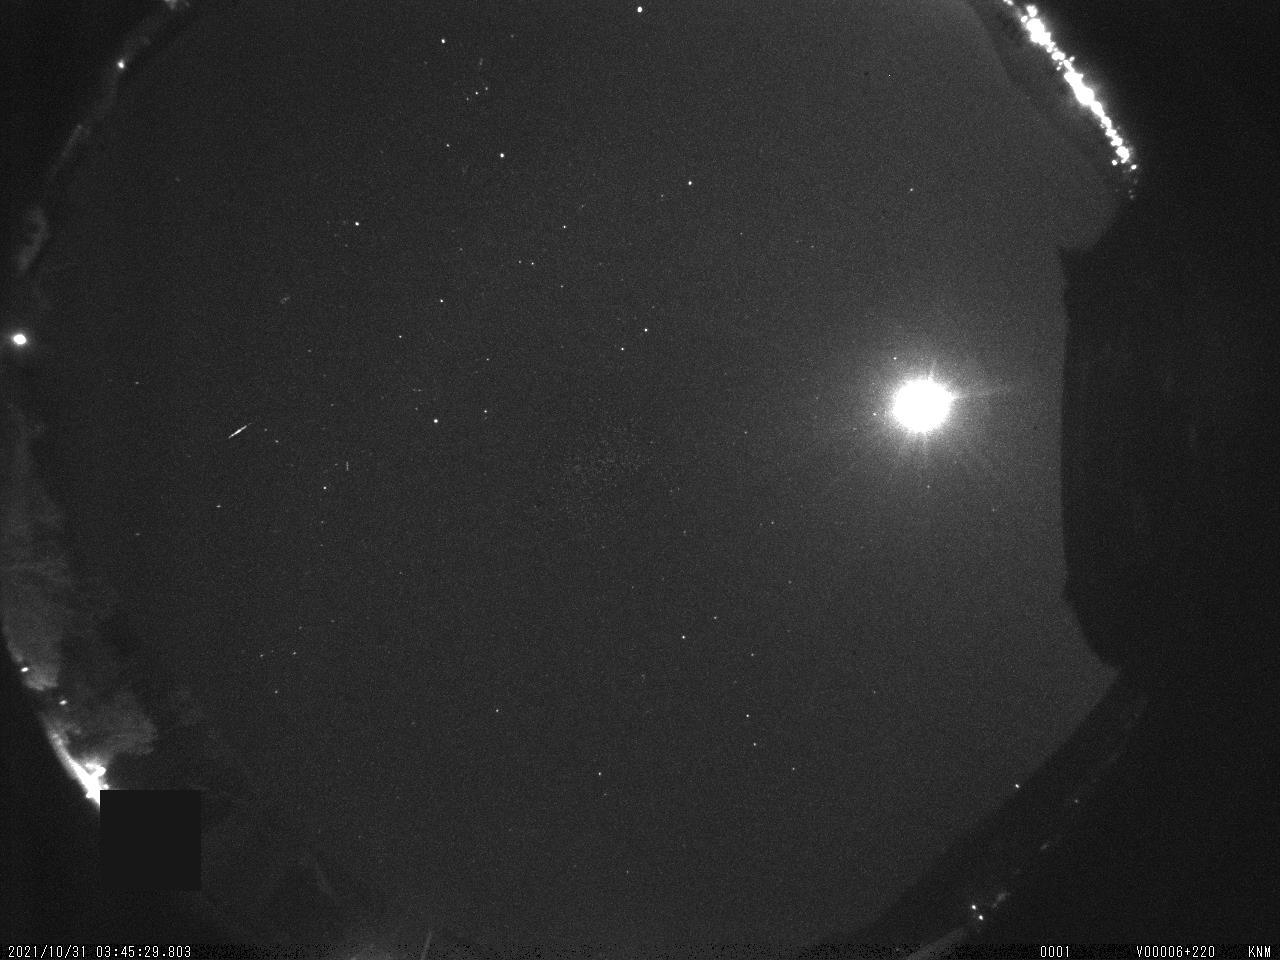meteor: (224, 412, 264, 450)
